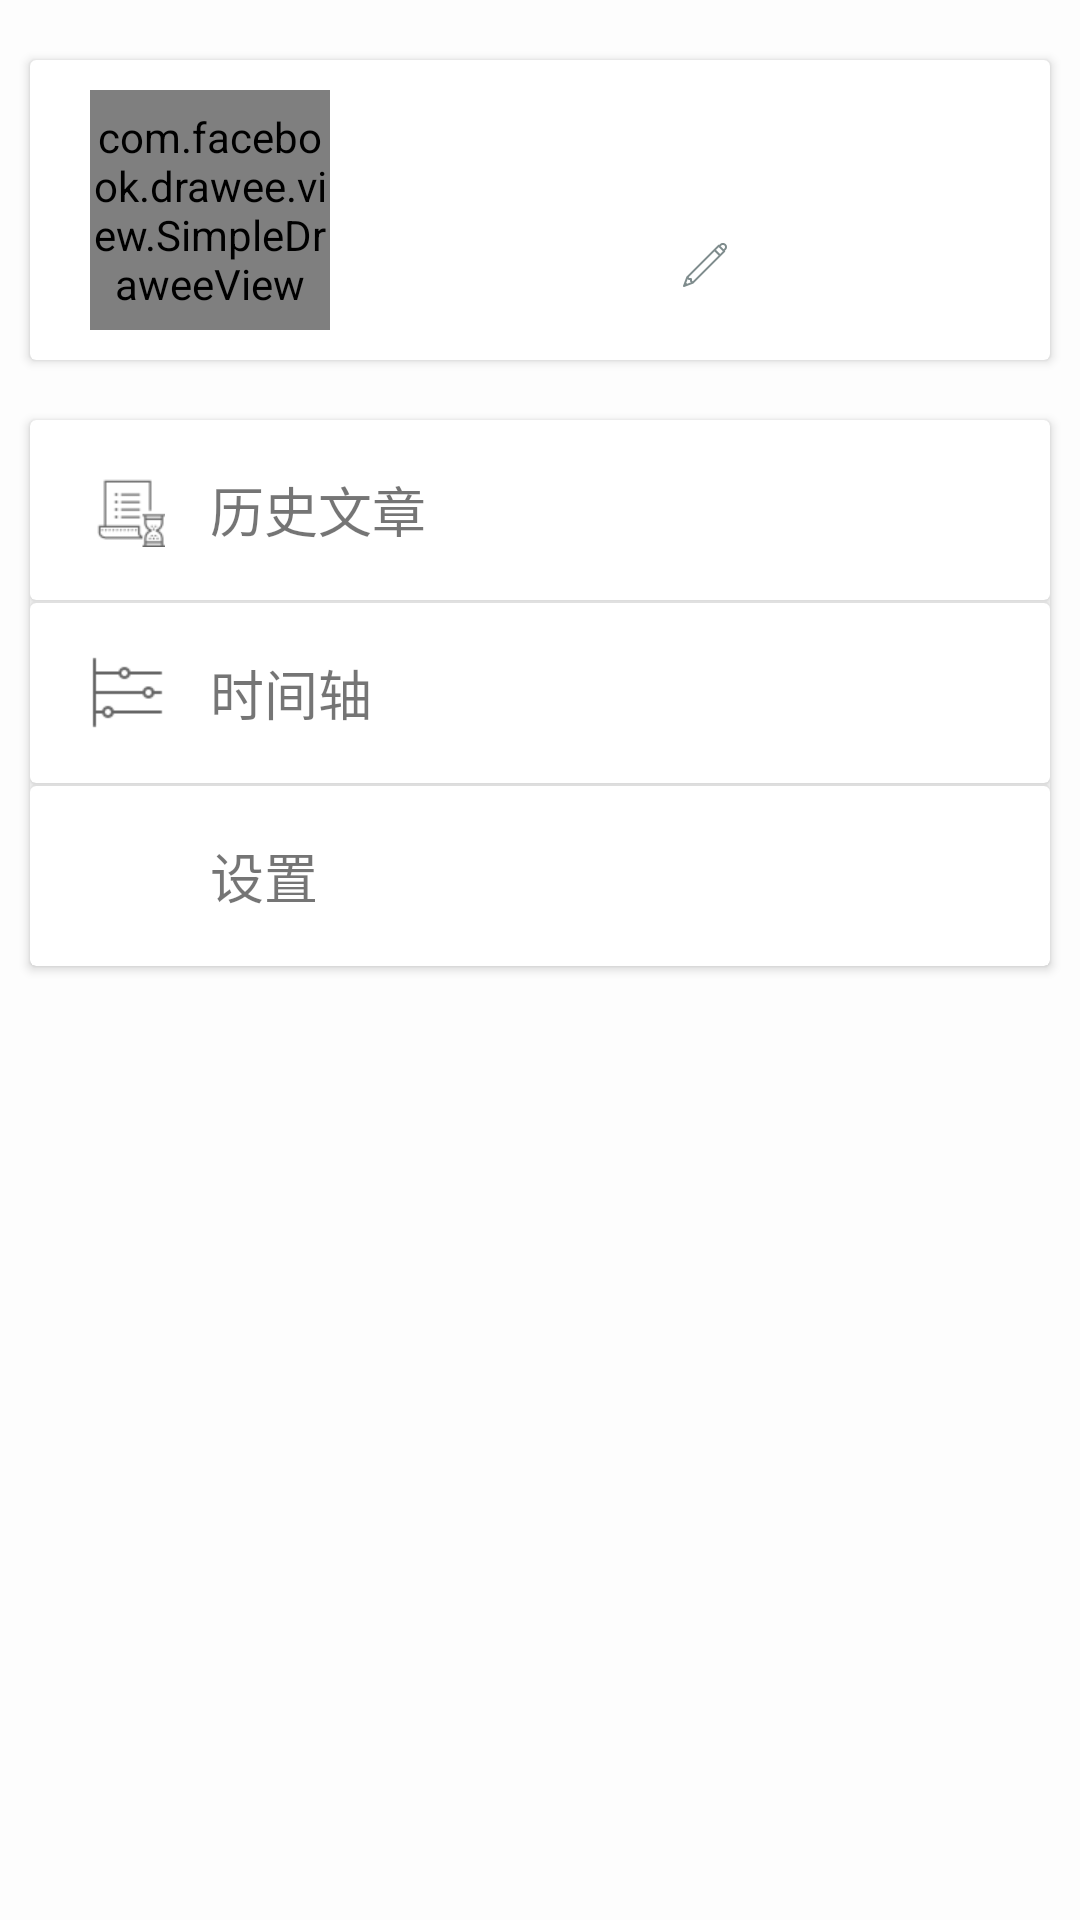

Named icons in this screenshot (1080 x 1920) and their centers, (x,y):
historyarticle: (131,513)
pencil: (705,265)
timeline: (127,692)
